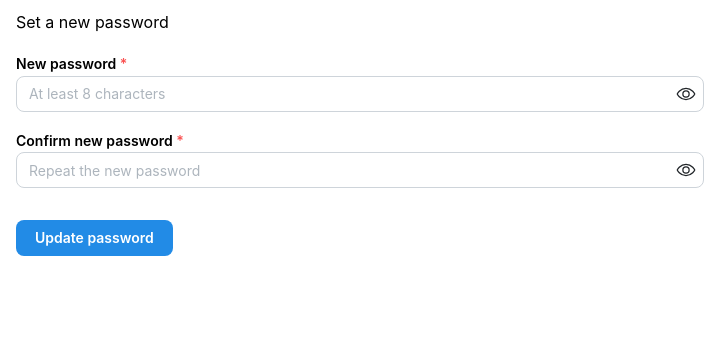
Test: the reset-password page › reports a dead link with the server's own invalid-token case
In the password field labelled "New password *": (360,94) 17,77 -> 703,111, type "sunlight-123"
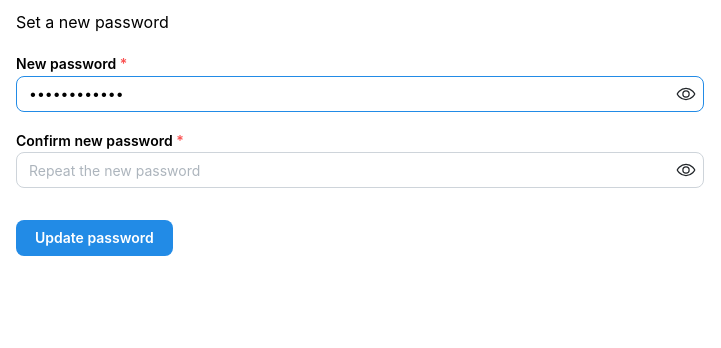
In the password field labelled "Confirm new password *": (360,170) 17,153 -> 703,187, type "sunlight-123"
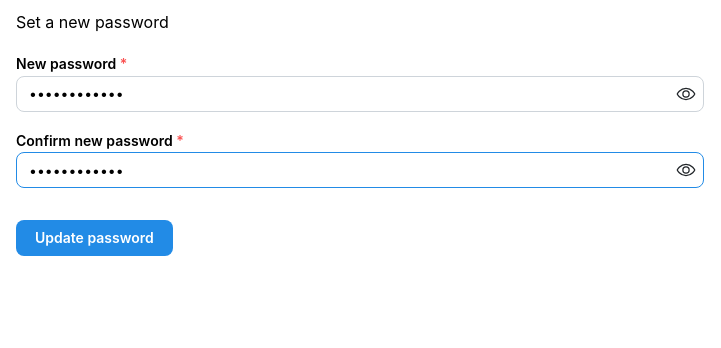
Click the button "Update password": (94,238) 16,220 -> 173,256
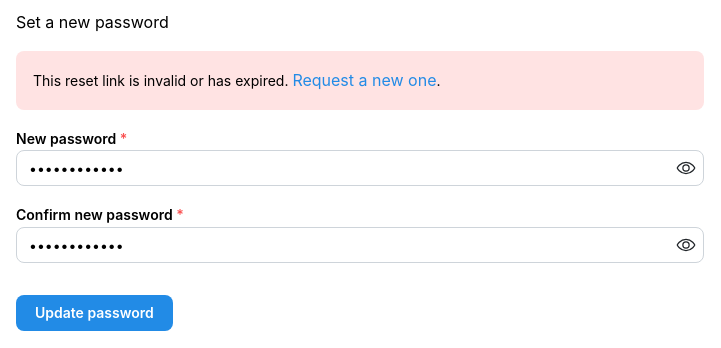
Expected: the text "This reset link is invalid or has expired" is shown, 33,72 -> 288,89
